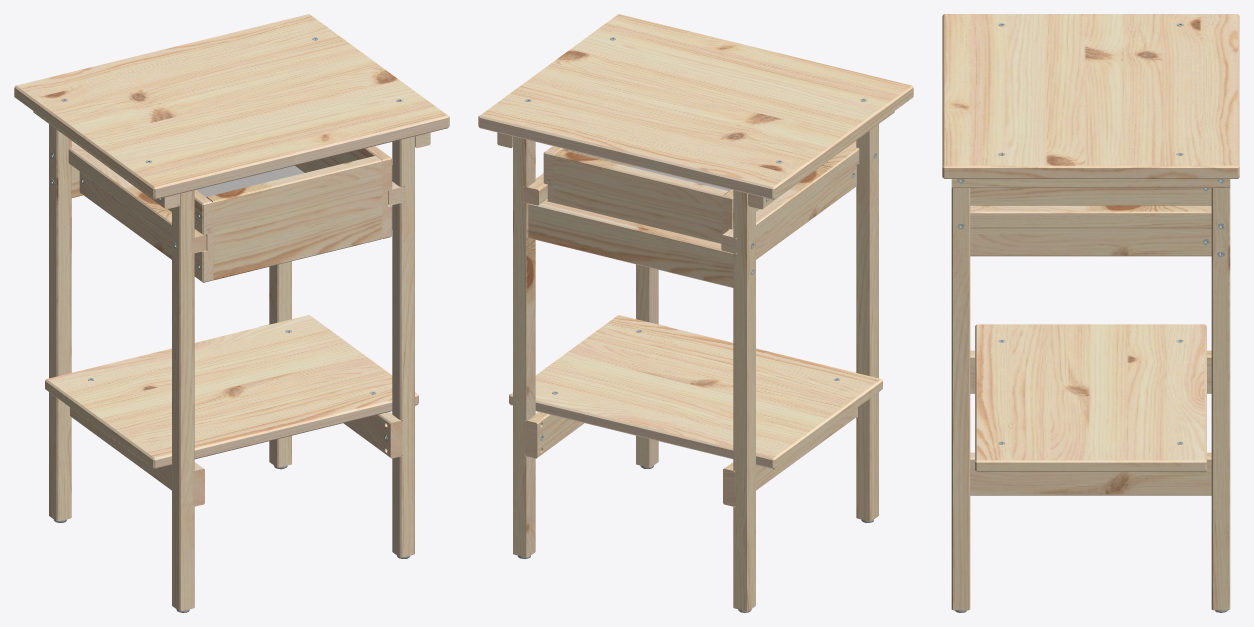
3 views of the same model, side by side, from view 1: azimuth 30°, elevation 25°; view 2: azimuth 150°, elevation 25°; view 3: azimuth 270°, elevation 25° (orthographic). The views are drawn at different scales.
Parts seen in each view (by area): view 1: ASY_ART_00610807_S01_NV01; view 2: ASY_ART_00610807_S01_NV01; view 3: ASY_ART_00610807_S01_NV01.
Part boxes in pixels (box(x1,y1,x2,y2)): ASY_ART_00610807_S01_NV01: box(14, 14, 449, 612); ASY_ART_00610807_S01_NV01: box(478, 14, 913, 612); ASY_ART_00610807_S01_NV01: box(942, 14, 1239, 612).
Size of the model in its own units: 0.39 by 0.5515 by 0.32.
1 material, 1 textured.
